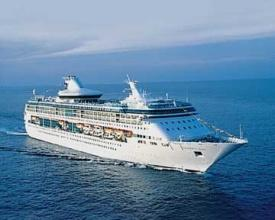youlun: (22, 72, 252, 171)
